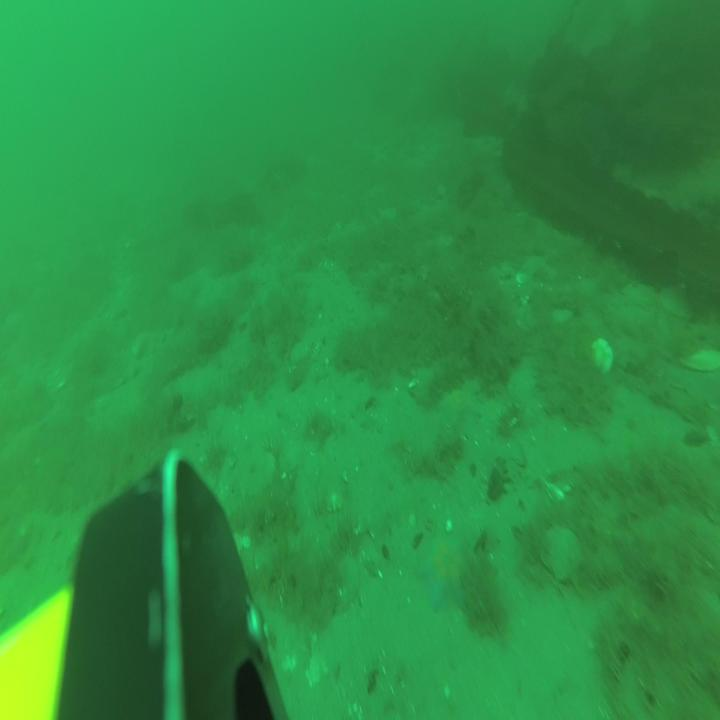scallop: (539, 524, 582, 582), (681, 340, 719, 373), (590, 335, 614, 377)
starfish: (416, 536, 465, 613), (436, 385, 478, 431)
